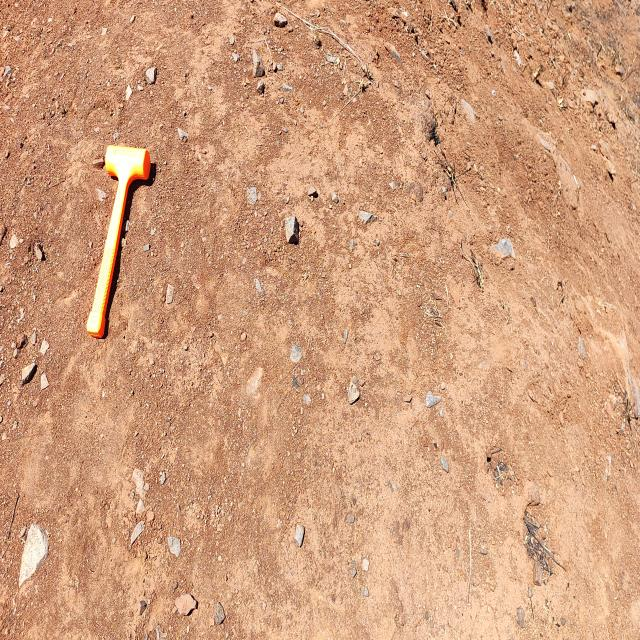Orange_hammer: (85, 143, 151, 339)
